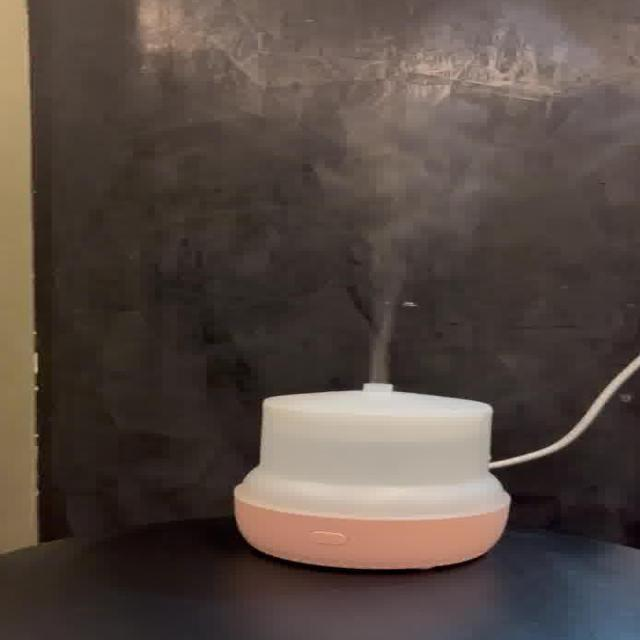fire: (330, 104, 542, 382)
